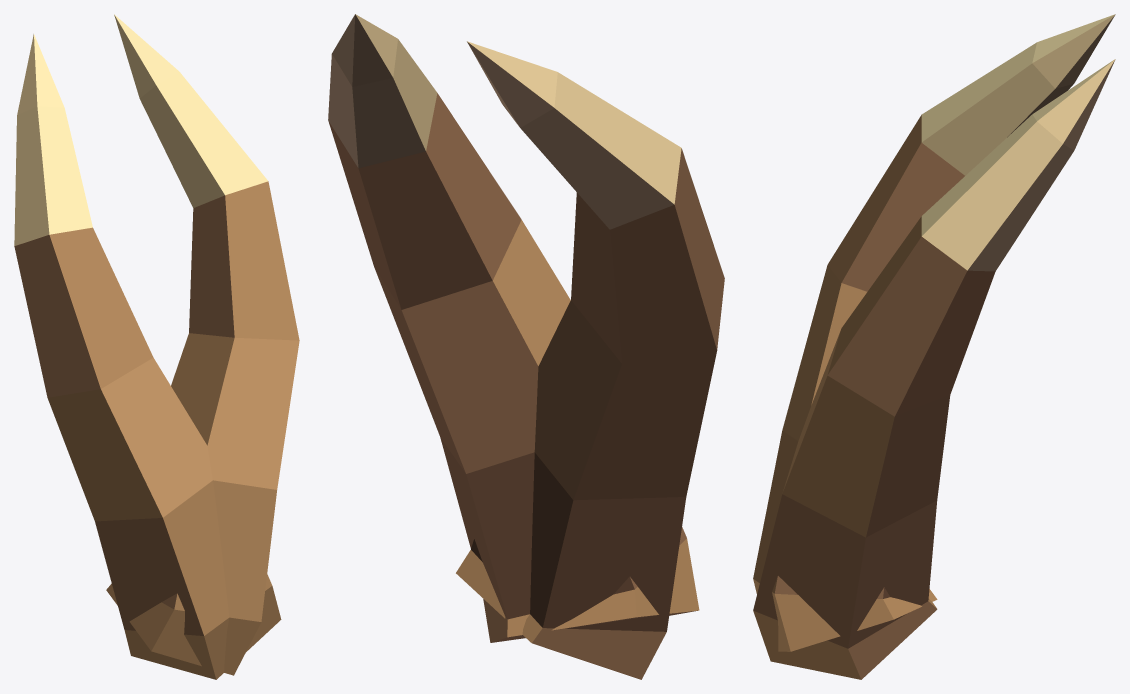
The model's file is horns_tf_upswept.glb.
The picture shows the model from 3 angles, left to right: view 1: azimuth 30°, elevation 25°; view 2: azimuth 150°, elevation 25°; view 3: azimuth 270°, elevation 25°; orthographic projection. The views are drawn at different scales.
Visible parts, largest first — view 1: Horn_R, Horn_L; view 2: Horn_R, Horn_L; view 3: Horn_L, Horn_R.
Part boxes in pixels (x1,y1,x2,y2): Horn_R: (14, 34, 281, 679); Horn_L: (106, 14, 299, 675); Horn_R: (456, 41, 724, 679); Horn_L: (328, 14, 699, 642); Horn_L: (753, 59, 1115, 679); Horn_R: (753, 14, 1115, 651).
Size of the model in its own units: 0.0672 by 0.1401 by 0.0743.
Materials: 1 (1 with a texture image).
